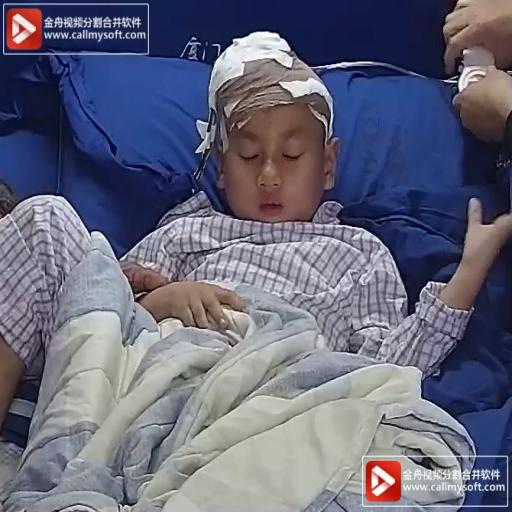Seizure: (192, 29, 364, 231)
